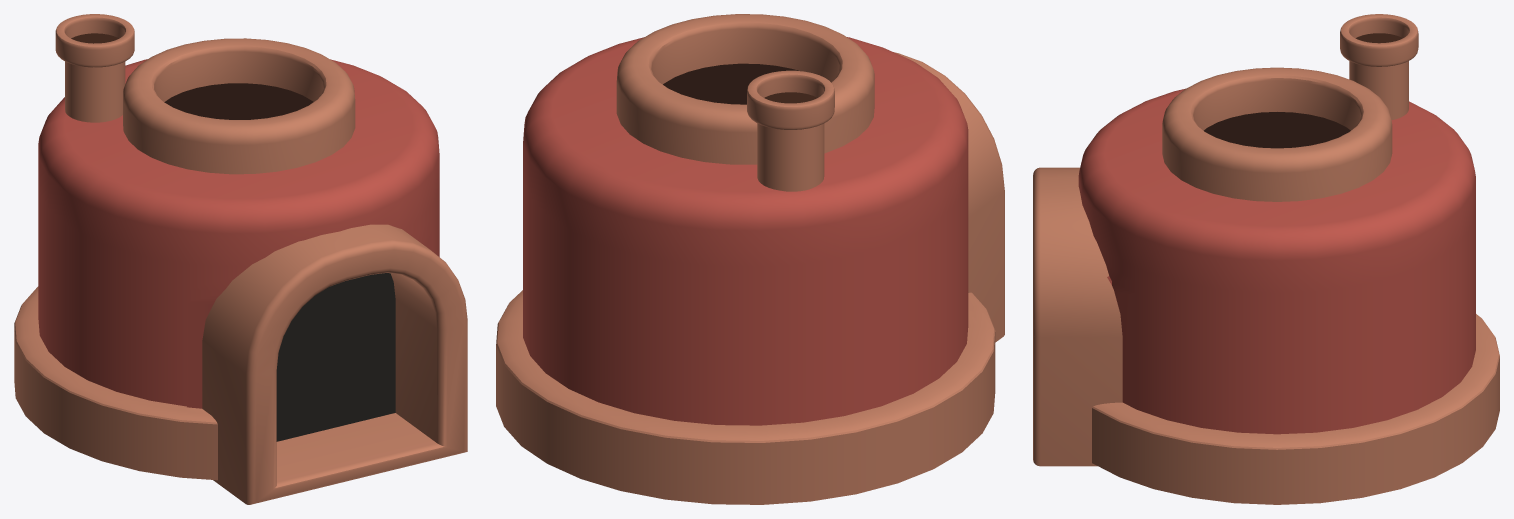
File: Asset_Transformer_Machine.fbx
The picture shows the model from 3 angles, left to right: view 1: azimuth 30°, elevation 25°; view 2: azimuth 150°, elevation 25°; view 3: azimuth 270°, elevation 25°; orthographic projection. The views are drawn at different scales.
Parts seen in each view (by area): view 1: Circle.003; view 2: Circle.003; view 3: Circle.003.
Boxes of the visible parts, left/top/right/bottom form: Circle.003: left=14, top=14, right=467, bottom=504; Circle.003: left=496, top=14, right=1004, bottom=504; Circle.003: left=1033, top=14, right=1499, bottom=504.
Size of the model in its own units: 1.52 by 1.28 by 1.59.
1 material, 1 textured.
